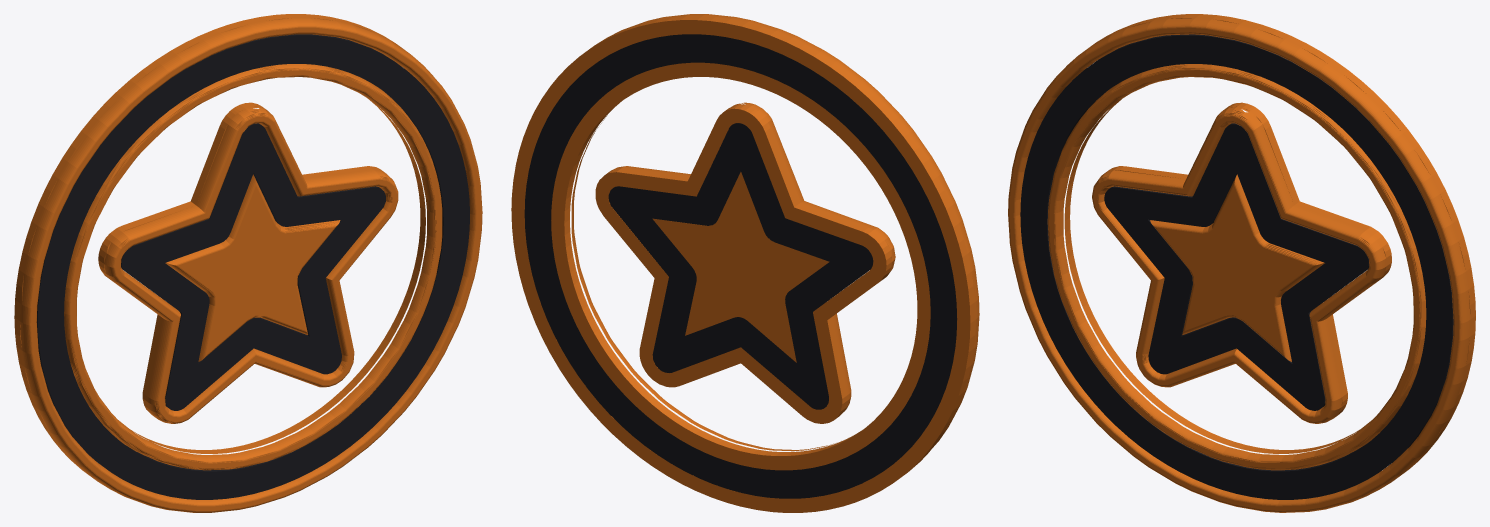
The model's file is perfect_cycles_t1.glb.
3 views of the same model, side by side, from view 1: azimuth 30°, elevation 25°; view 2: azimuth 150°, elevation 25°; view 3: azimuth 330°, elevation 25° (orthographic).
Parts seen in each view (by area): view 1: mark, mark_channel; view 2: mark, mark_channel; view 3: mark, mark_channel.
Boxes of the visible parts, x1,y1,x2,y2 form: mark: [14, 14, 482, 512]; mark_channel: [36, 34, 469, 499]; mark: [511, 14, 979, 512]; mark_channel: [524, 34, 957, 498]; mark: [1008, 14, 1475, 512]; mark_channel: [1020, 34, 1453, 499].
Size of the model in its own units: 0.52 by 0.52 by 0.024.
